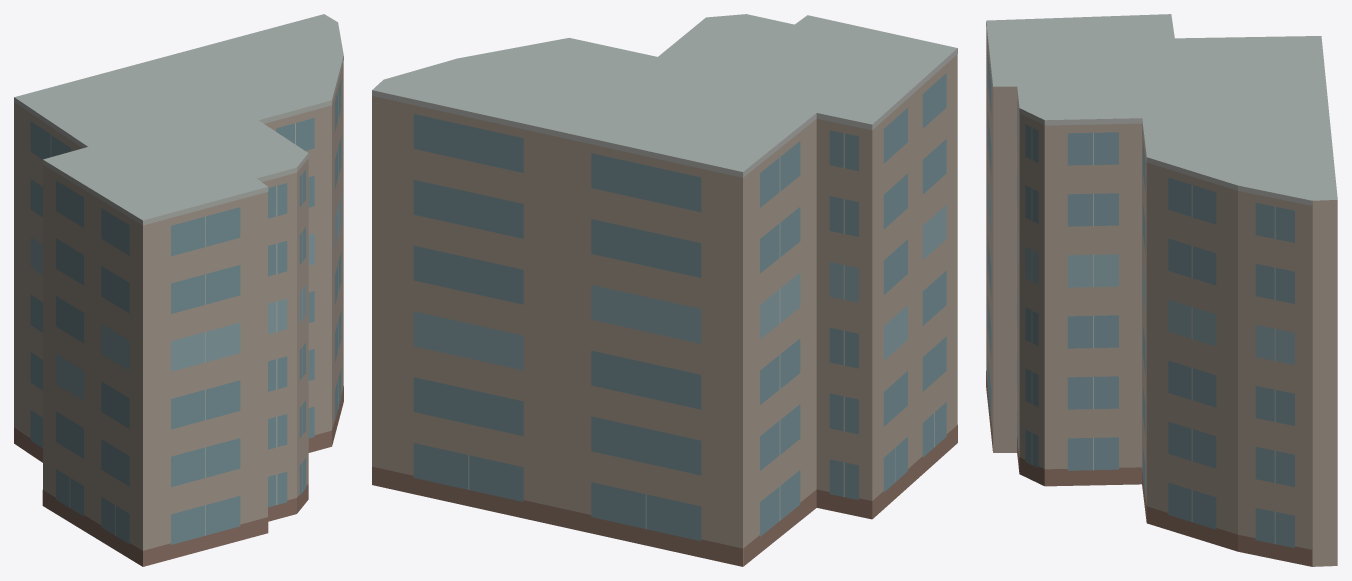
The model's file is survey-upis-32875755.glb.
The picture shows the model from 3 angles, left to right: view 1: azimuth 30°, elevation 25°; view 2: azimuth 150°, elevation 25°; view 3: azimuth 270°, elevation 25°; orthographic projection. The views are drawn at different scales.
Visible parts, largest first — view 1: survey-upis-32875755.tmp; view 2: survey-upis-32875755.tmp; view 3: survey-upis-32875755.tmp.
Boxes of the visible parts, x1,y1,x2,y2 form: survey-upis-32875755.tmp: [14, 14, 343, 566]; survey-upis-32875755.tmp: [372, 14, 957, 566]; survey-upis-32875755.tmp: [986, 14, 1337, 566].
Size of the model in its own units: 18.39 by 16.8 by 14.63.
